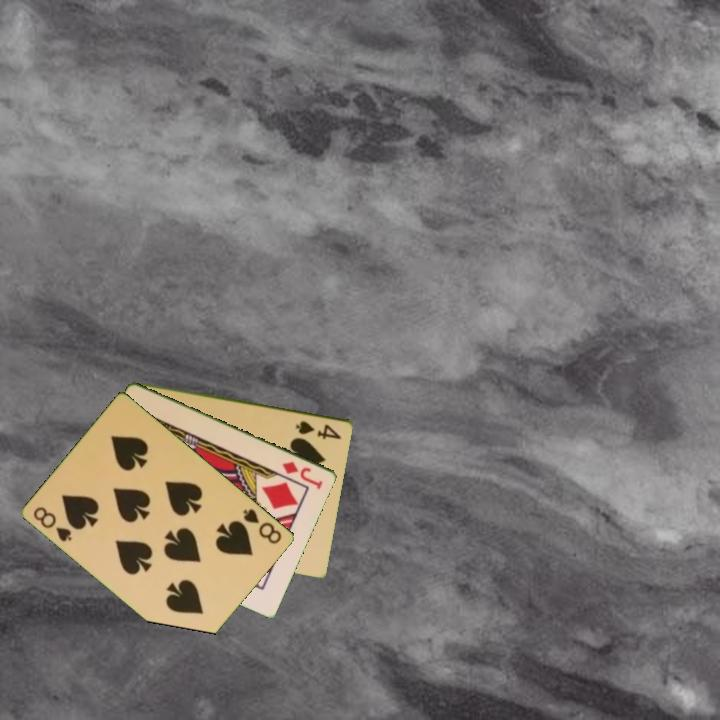4s: (292, 417, 345, 442)
8s: (240, 505, 285, 547), (30, 503, 75, 544)
Jd: (279, 457, 326, 492)
